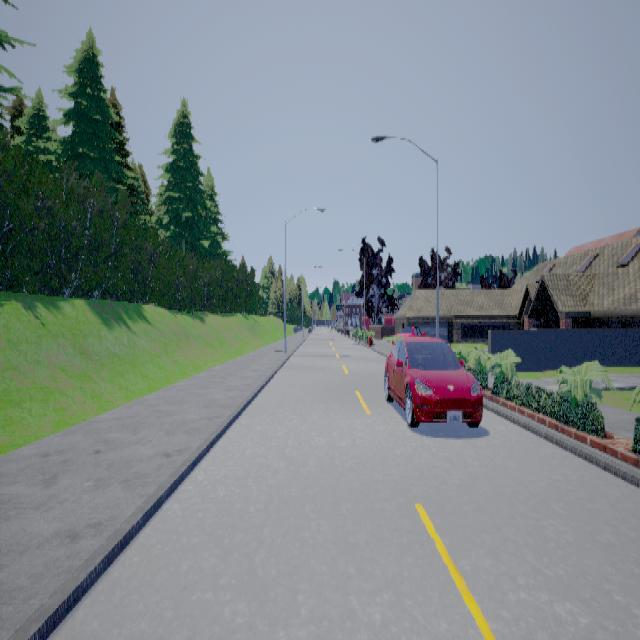vehicle: (385, 325, 484, 426)
